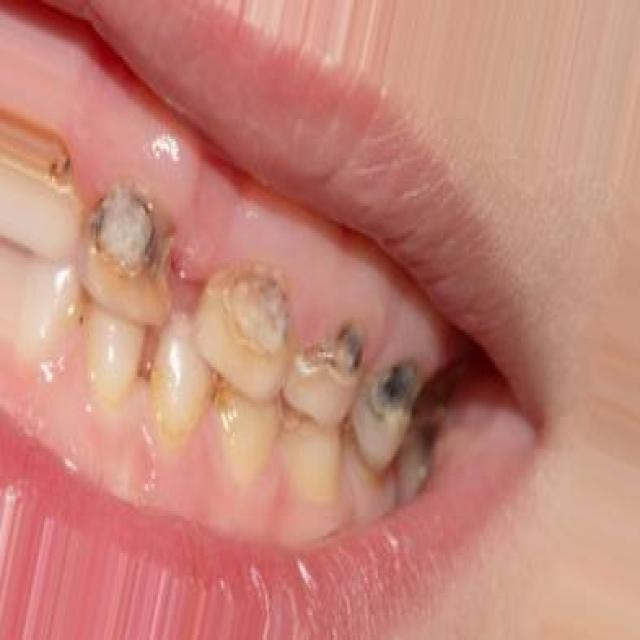caries: (74, 176, 180, 315), (208, 257, 298, 381), (295, 304, 369, 412), (364, 341, 422, 437)
